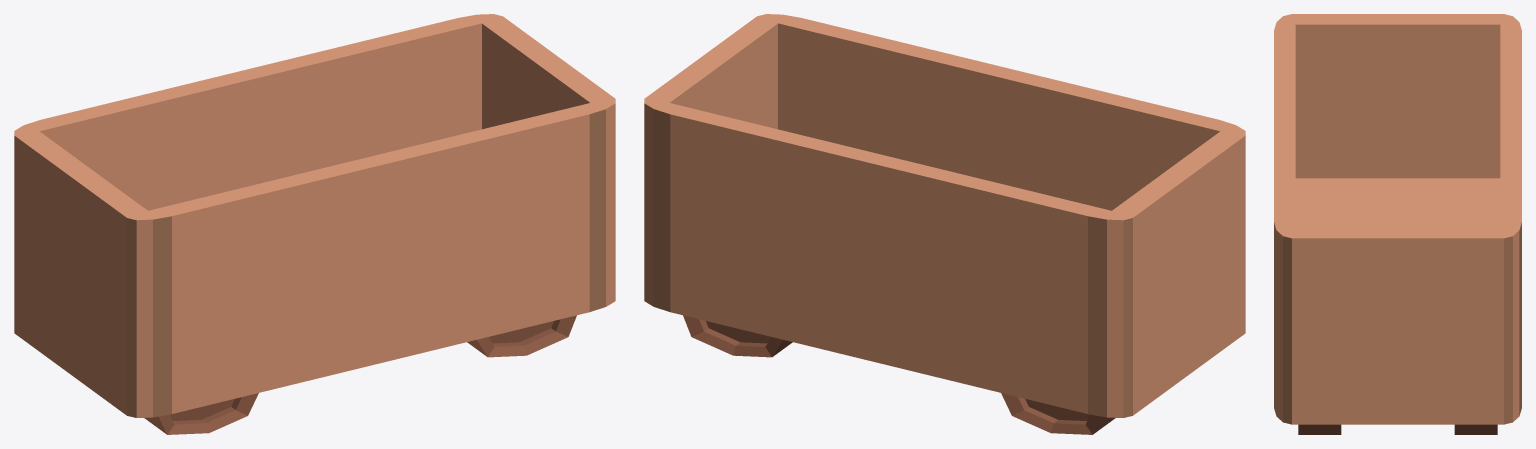
The model's file is cart.fbx.
3 views of the same model, side by side, from view 1: azimuth 30°, elevation 25°; view 2: azimuth 150°, elevation 25°; view 3: azimuth 270°, elevation 25° (orthographic). The views are drawn at different scales.
Visible parts, largest first — view 1: cart; view 2: cart; view 3: cart.
Part boxes in pixels (x1,y1,x2,y2): cart: [14, 14, 615, 434]; cart: [644, 14, 1245, 434]; cart: [1274, 14, 1521, 434].
Size of the model in its own units: 300 by 140 by 140.
